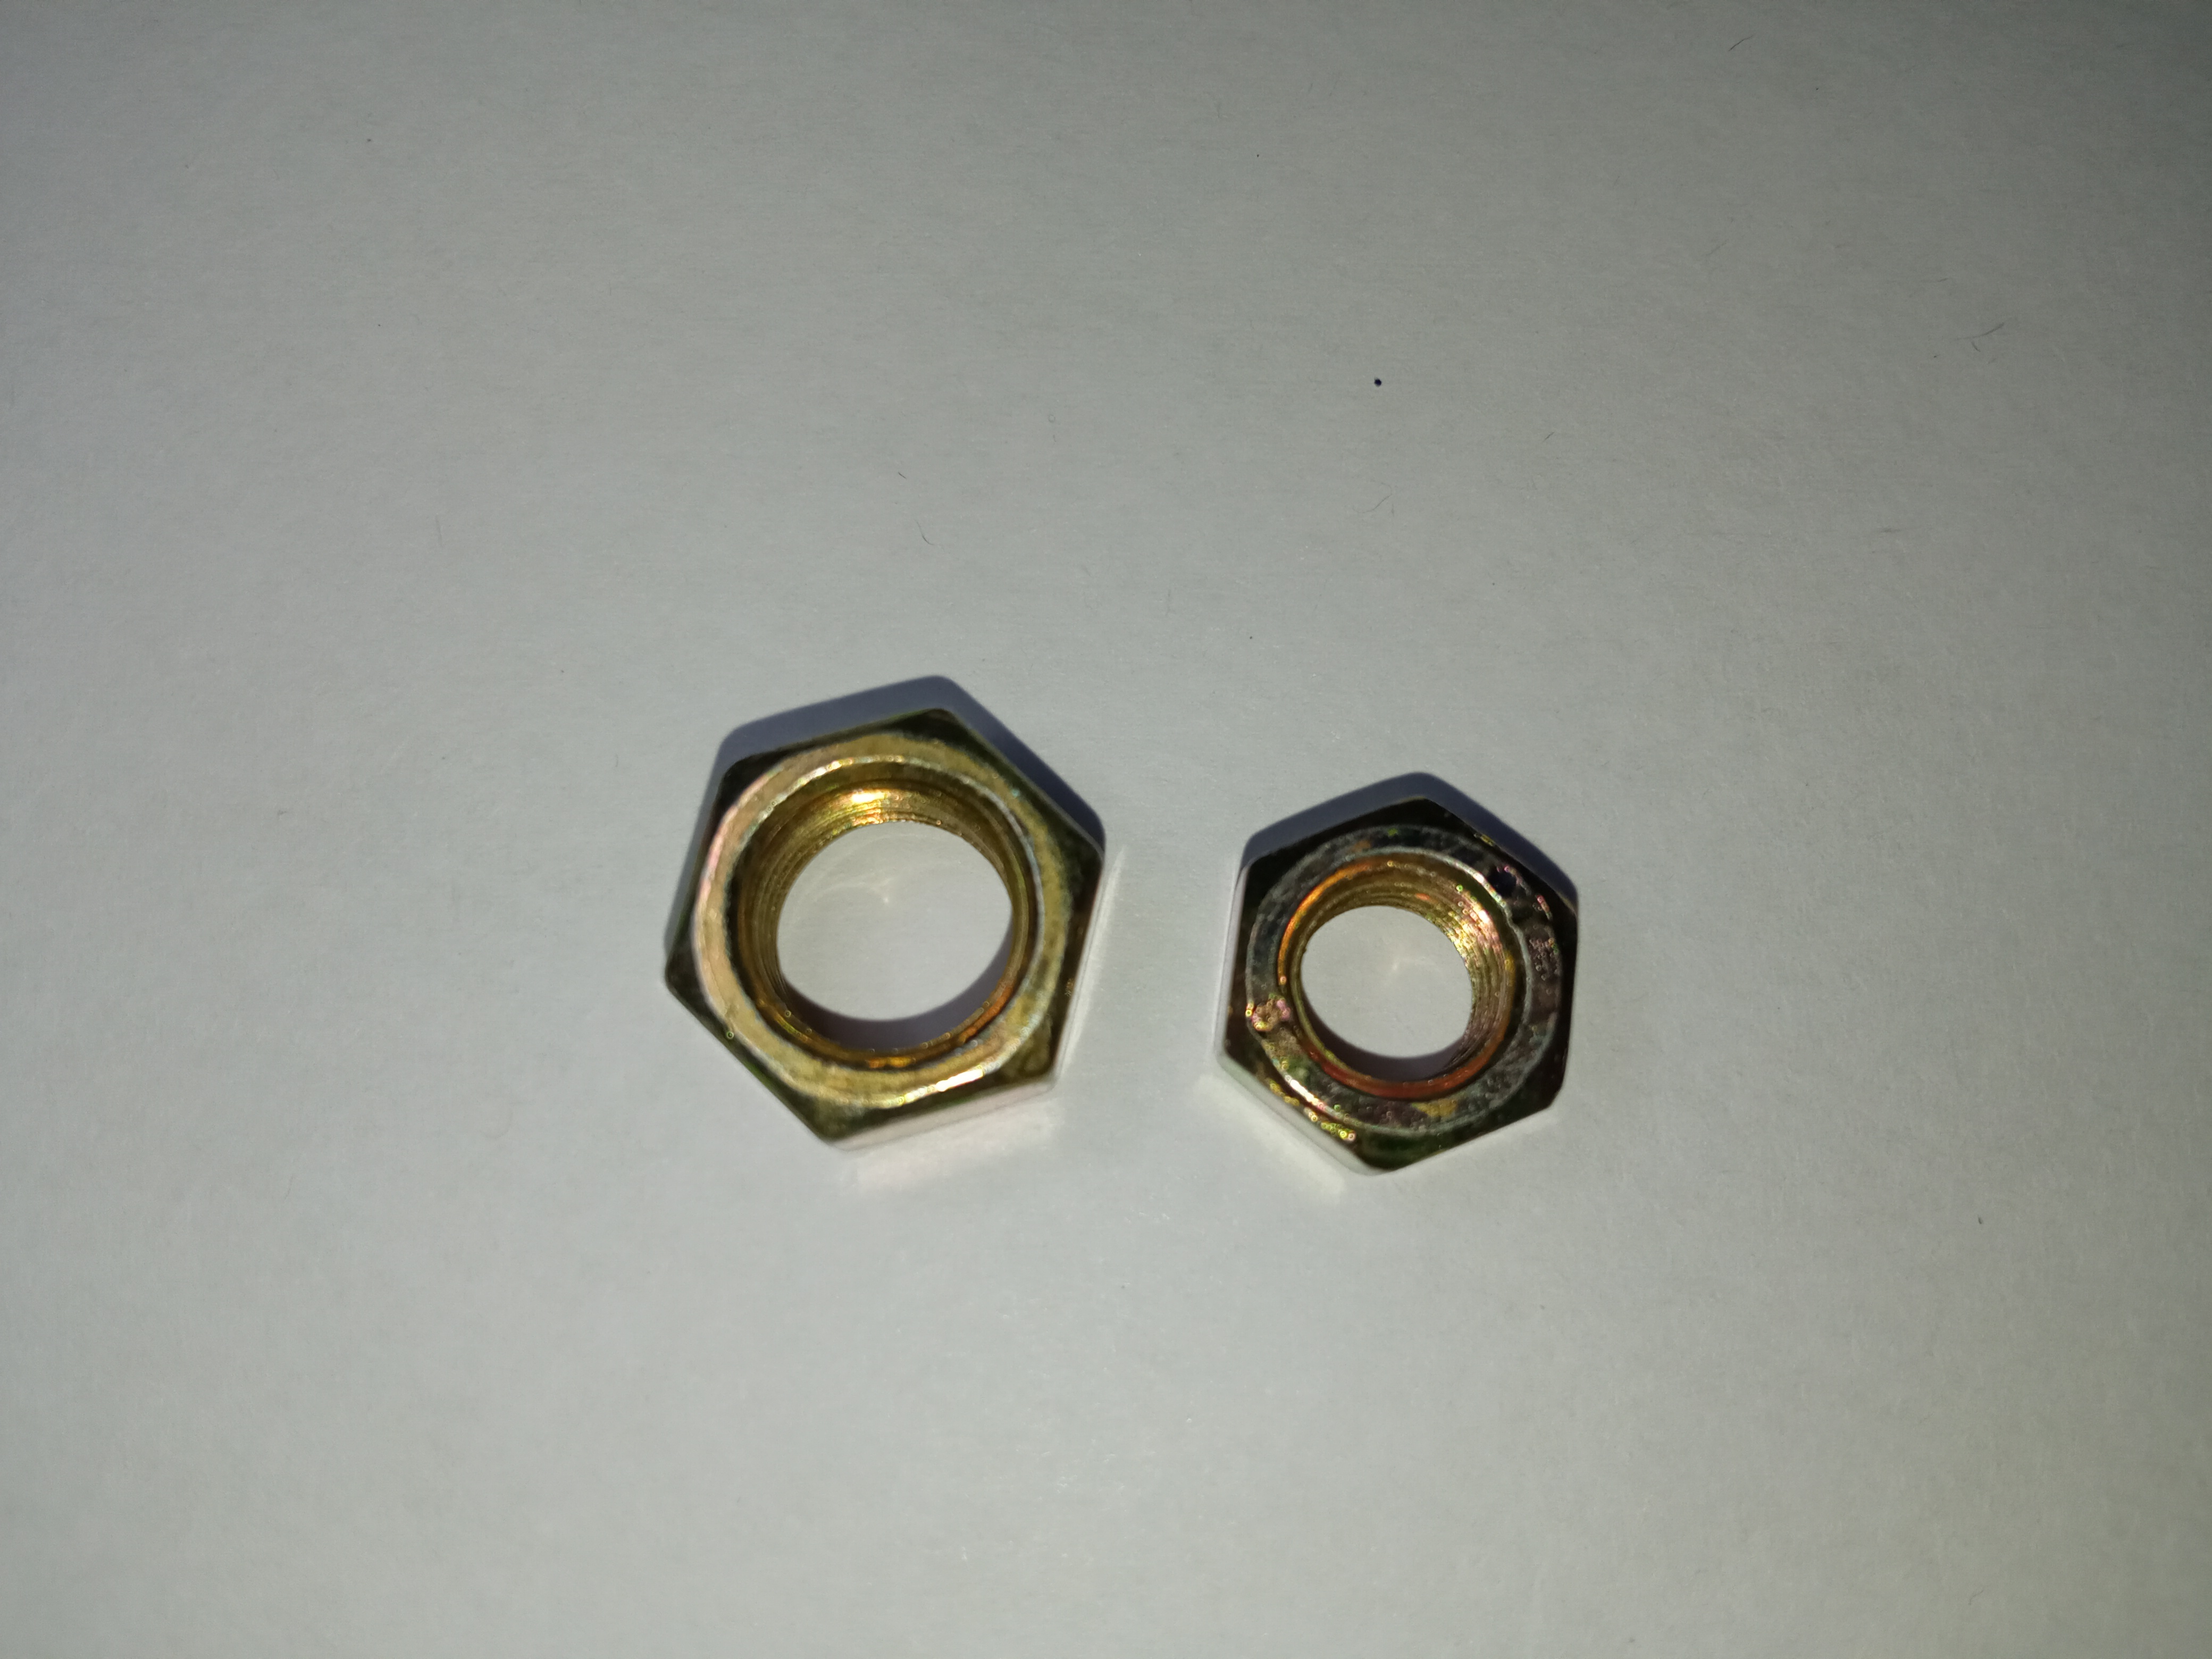m10: (672, 721, 1076, 1103)
m8: (1219, 796, 1595, 1150)
